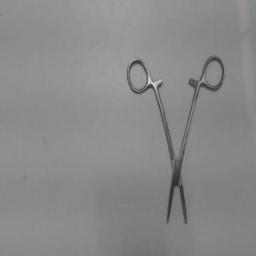Mayo Needle Holder: (124, 48, 228, 228)
